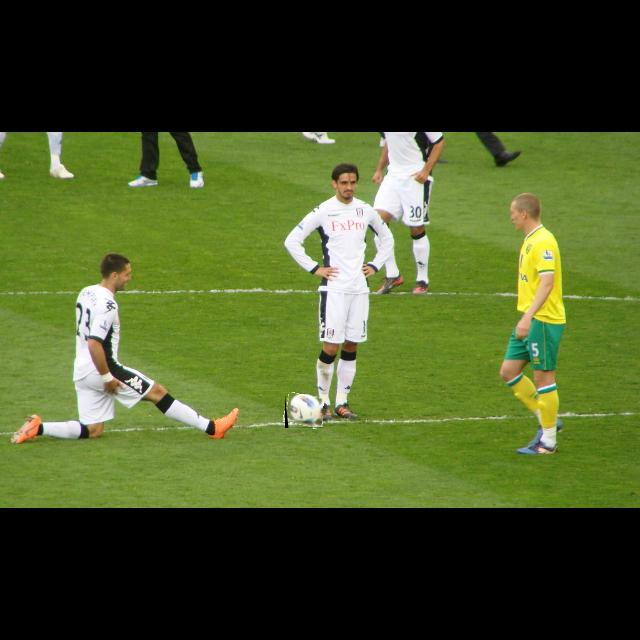Football: (285, 394, 323, 428)
